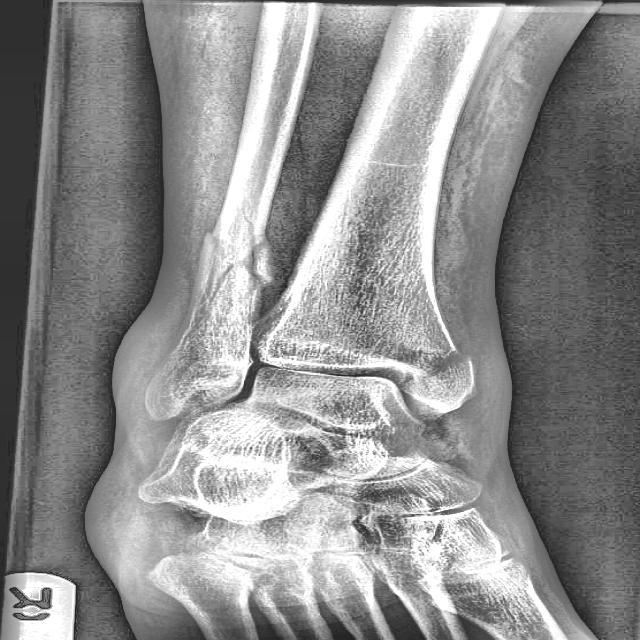fracture: (192, 225, 274, 312)
